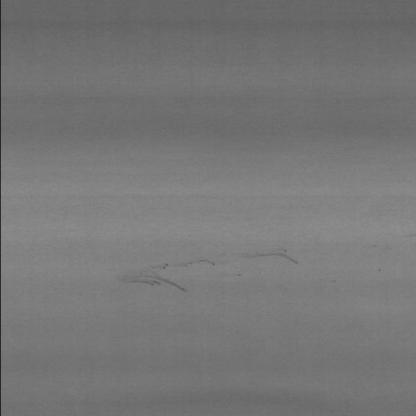water_spot: (105, 245, 306, 298)
